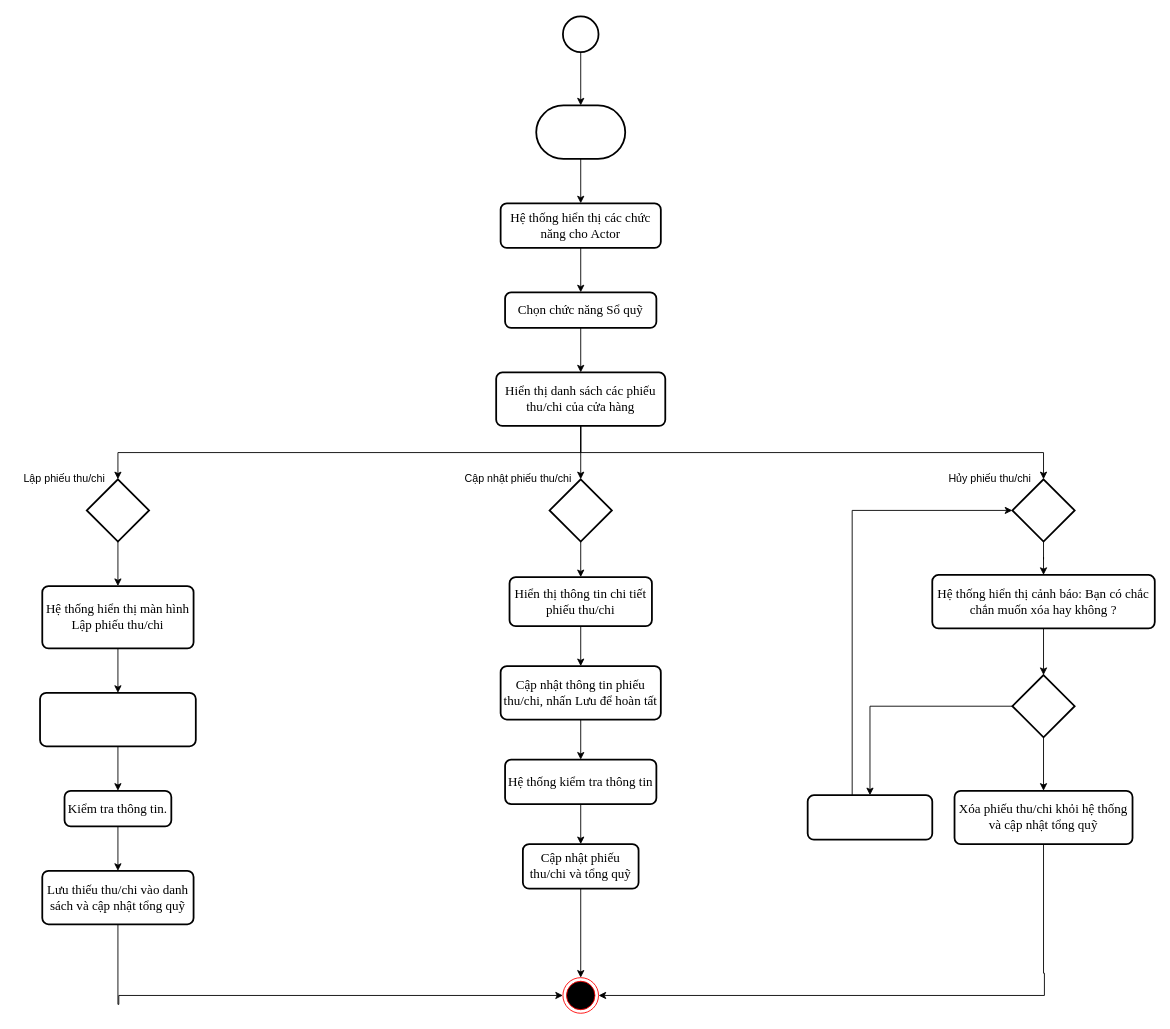
Image size: 1170x1029. Some labels were removed from this diagram. Each missing label, with the box of its shape:
Hủy xóa: (806, 794, 933, 840)
Điền các thông tin và nhấn lưu: (39, 692, 196, 747)
Đăng nhập: (535, 104, 626, 159)
